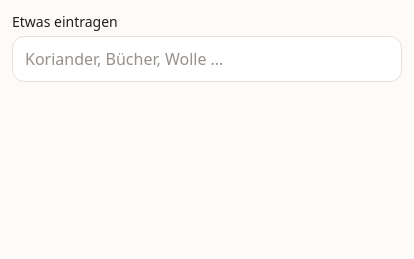
Test: ItemPicker › hides entries that are already on a list
Type "kori" into the search field labelled "Etwas eintragen" at [207, 59], box [12,36,402,82]
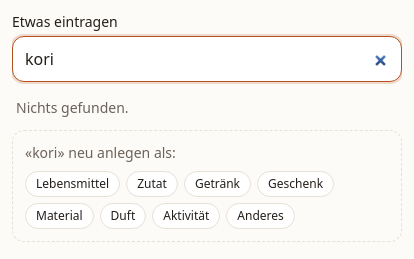
Check: the text "Nichts gefunden." is shown, box [16,98,129,117]
